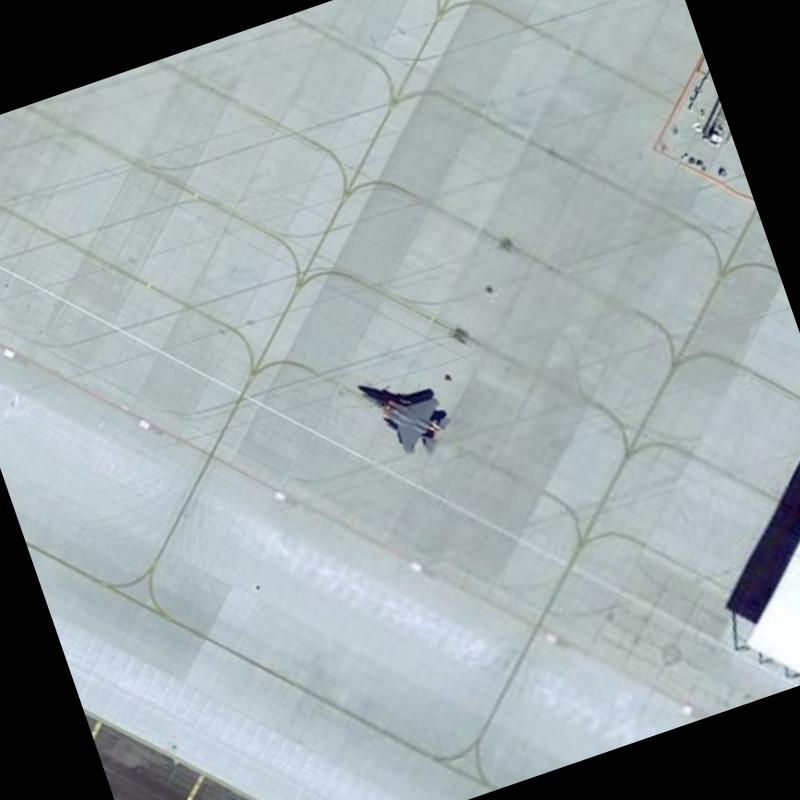A13: (340, 347, 466, 474)
